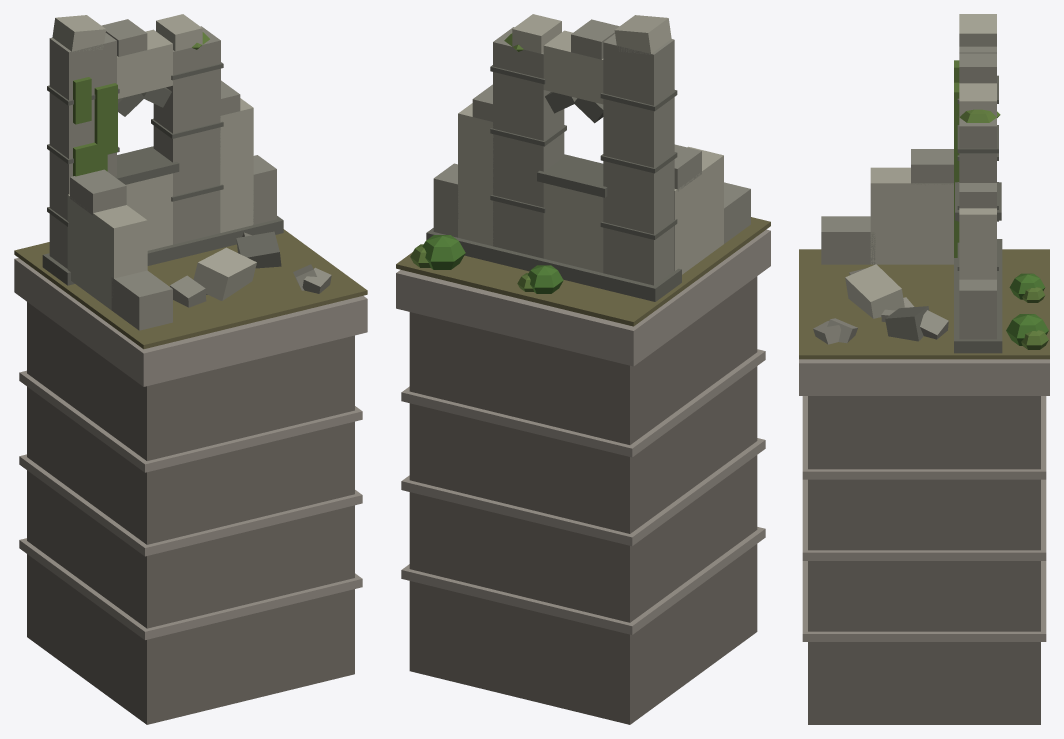
The model's file is decor_ruined_wall.glb.
3 views of the same model, side by side, from view 1: azimuth 30°, elevation 25°; view 2: azimuth 150°, elevation 25°; view 3: azimuth 270°, elevation 25° (orthographic). The views are drawn at different scales.
Parts seen in each view (by area): view 1: decor_ruined_wall; view 2: decor_ruined_wall; view 3: decor_ruined_wall.
Boxes of the visible parts, box(x1,y1,x2,y2) form: decor_ruined_wall: box(14, 14, 367, 724); decor_ruined_wall: box(396, 14, 770, 724); decor_ruined_wall: box(799, 14, 1049, 724).
Size of the model in its own units: 2.8 by 7.58 by 2.8.
